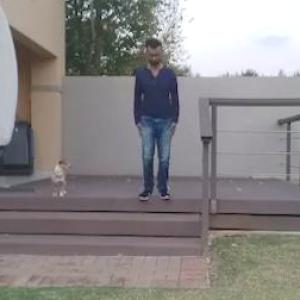follow: (141, 39, 182, 207)
